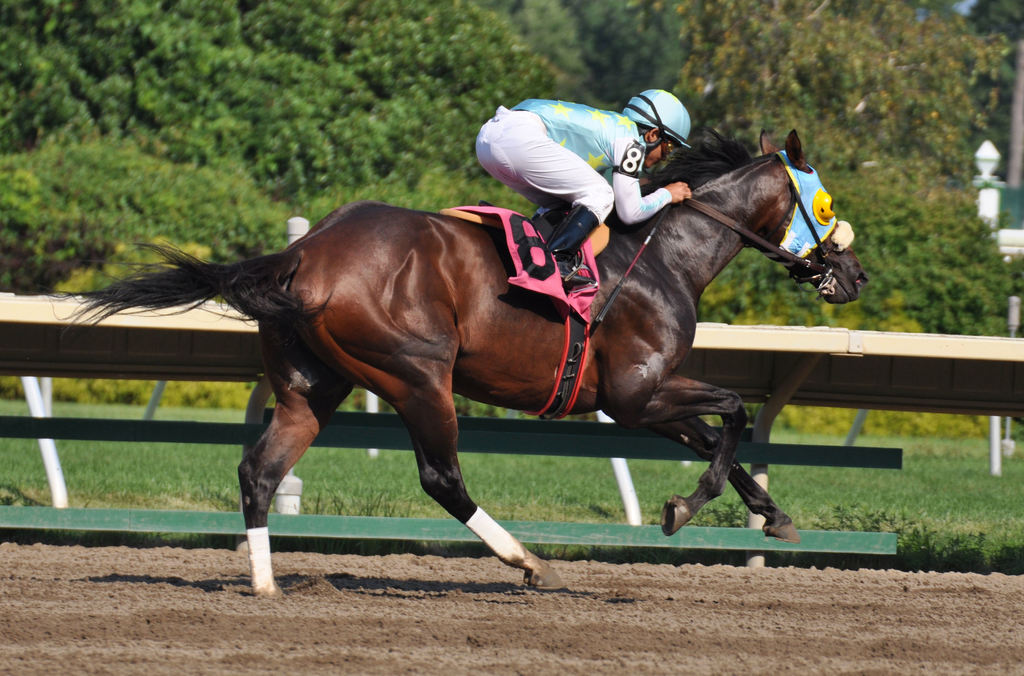horse: (22, 125, 868, 598)
